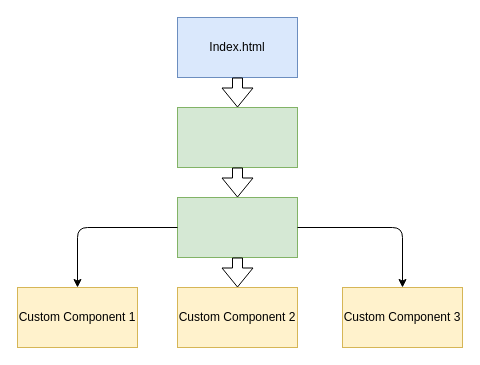
This 480x365 diagram has some shape labels left out. Each missing label, with the centre of its shape:
"App.JS" goes at (x=237, y=227).
"Index.JS" goes at (x=237, y=137).
